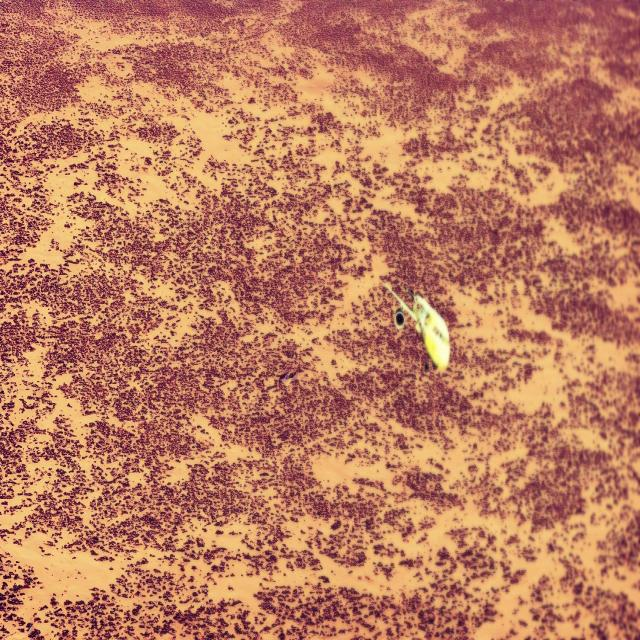airplane: (381, 281, 450, 373)
